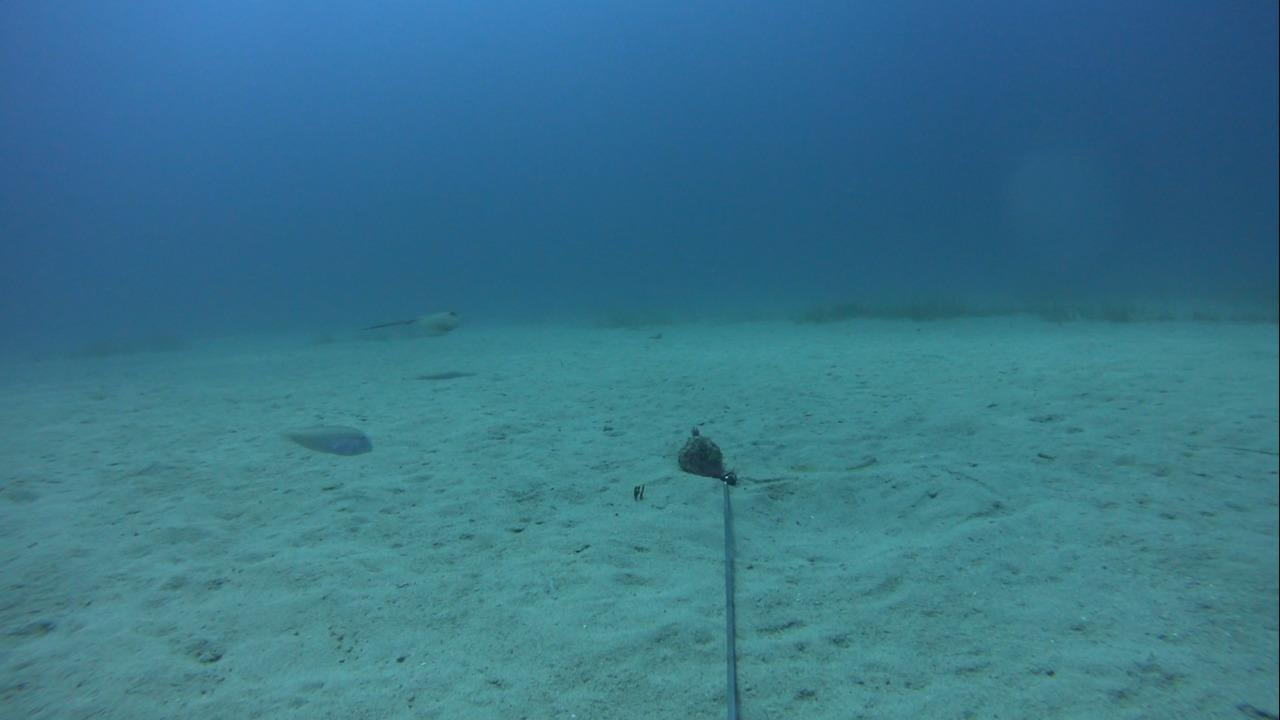myliobatis: (343, 299, 465, 345)
raor: (267, 421, 372, 463)
